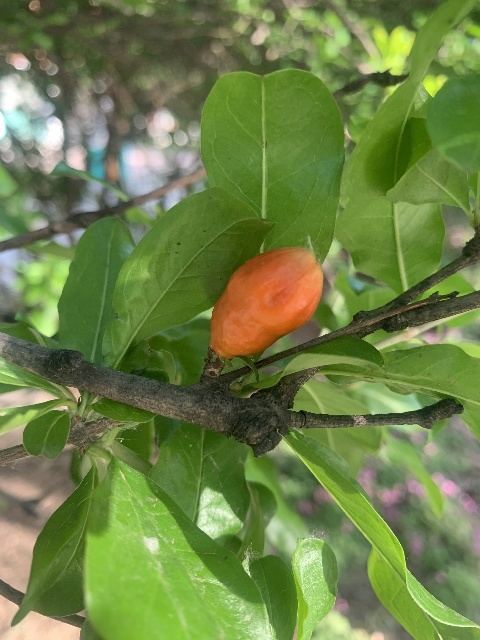bud: (209, 246, 323, 359)
